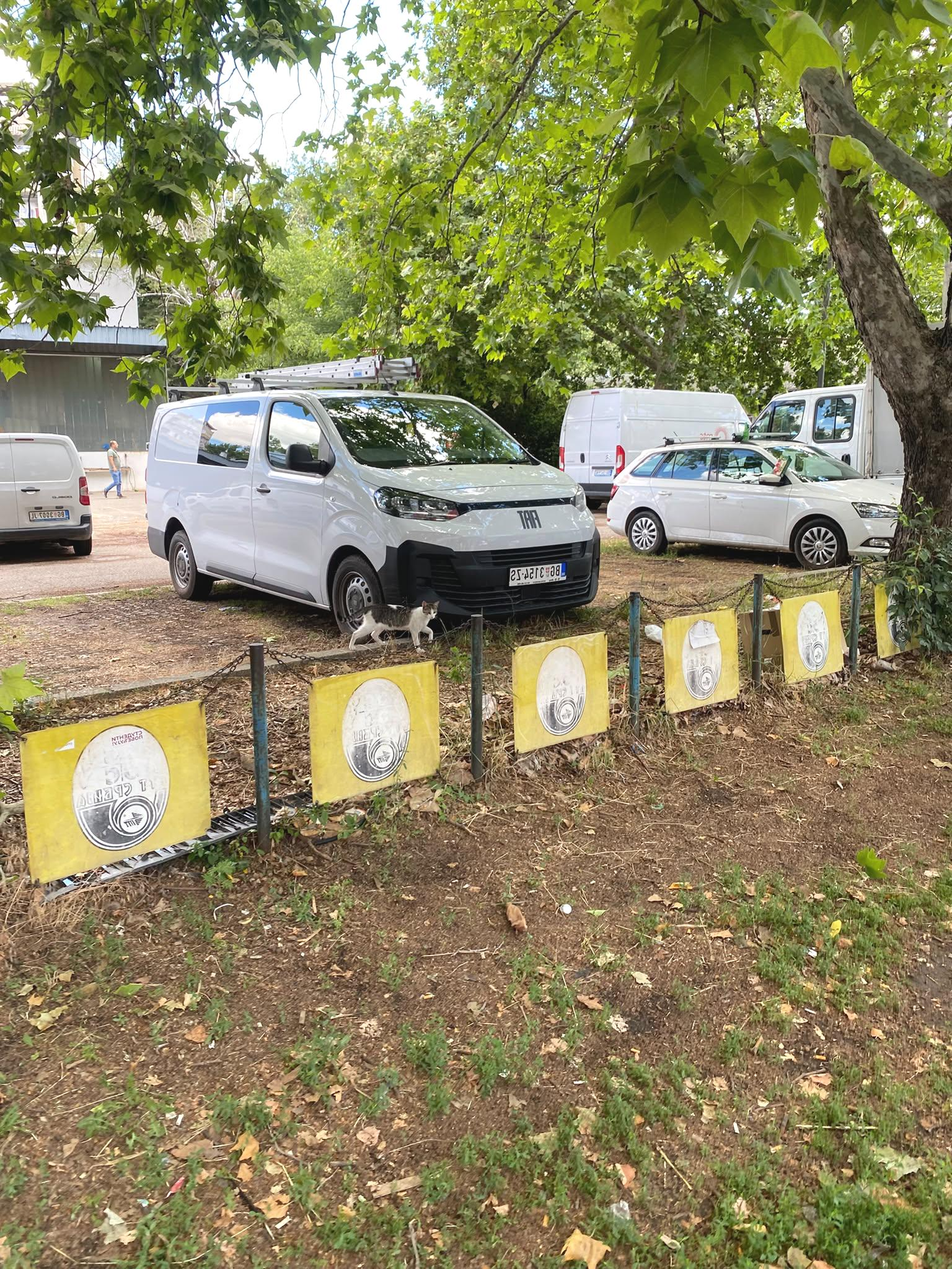macka: (348, 600, 440, 651)
